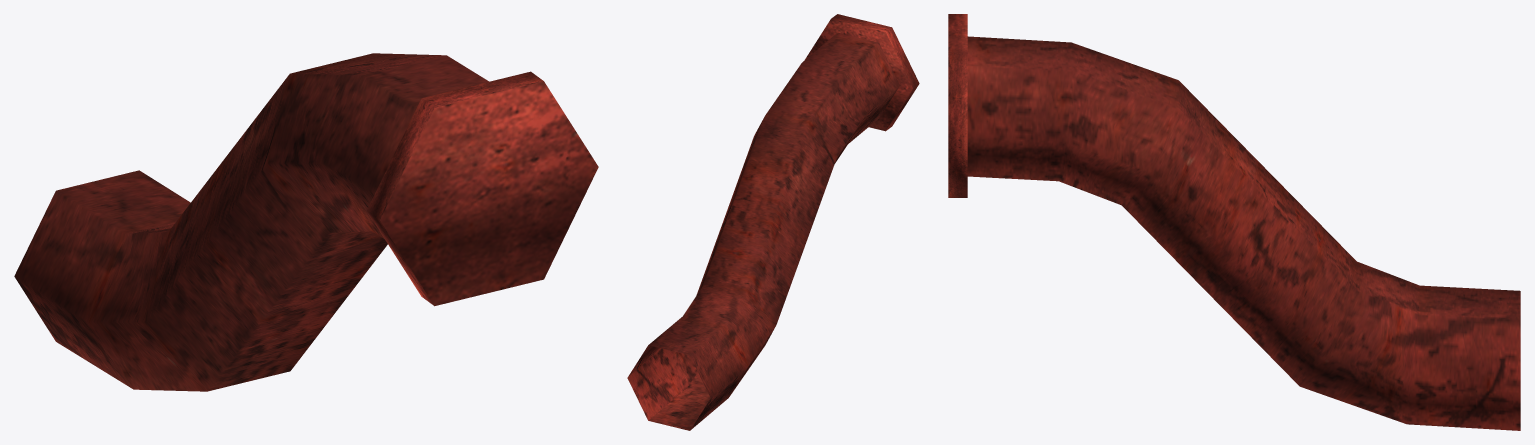
Rendered from small_red_limp.fbx.
3 renders of one model, left to right at view 1: azimuth 30°, elevation 25°; view 2: azimuth 150°, elevation 25°; view 3: azimuth 270°, elevation 25°, orthographic. The views are drawn at different scales.
Parts seen in each view (by area): view 1: polySurface640; view 2: polySurface640; view 3: polySurface640.
Boxes of the visible parts, <box> form: polySurface640: <box>14,53,598,391</box>; polySurface640: <box>627,14,919,430</box>; polySurface640: <box>948,14,1520,430</box>.
Bounding box in the file's own units: 0.6563 × 1.5 × 2.03.
